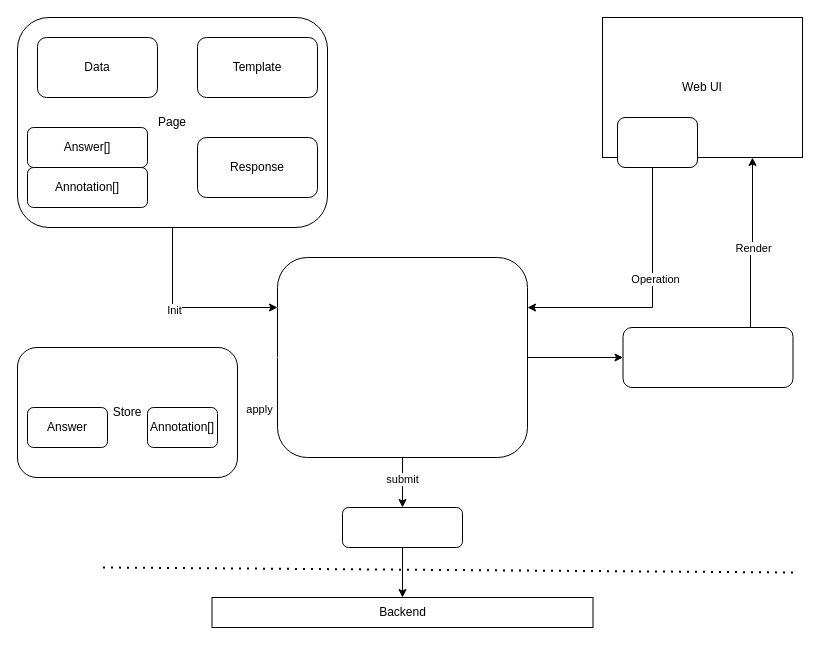
The diagram is 820 pixels wide and 645 high, and some of its shapes have lost their labels. The shapes that lost their labels are listed below. From the top down, each one's centre as x and y in pixels, then its label:
At point 657,142: "Action".
At point 402,357: "Drama".
At point 707,357: "THREE.Scene THREE.Object3D[]".
At point 402,527: "Validation".
